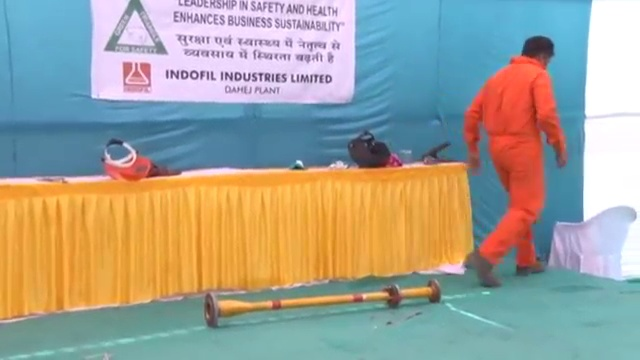helmet_off: (520, 34, 554, 67)
person: (458, 32, 567, 283)
